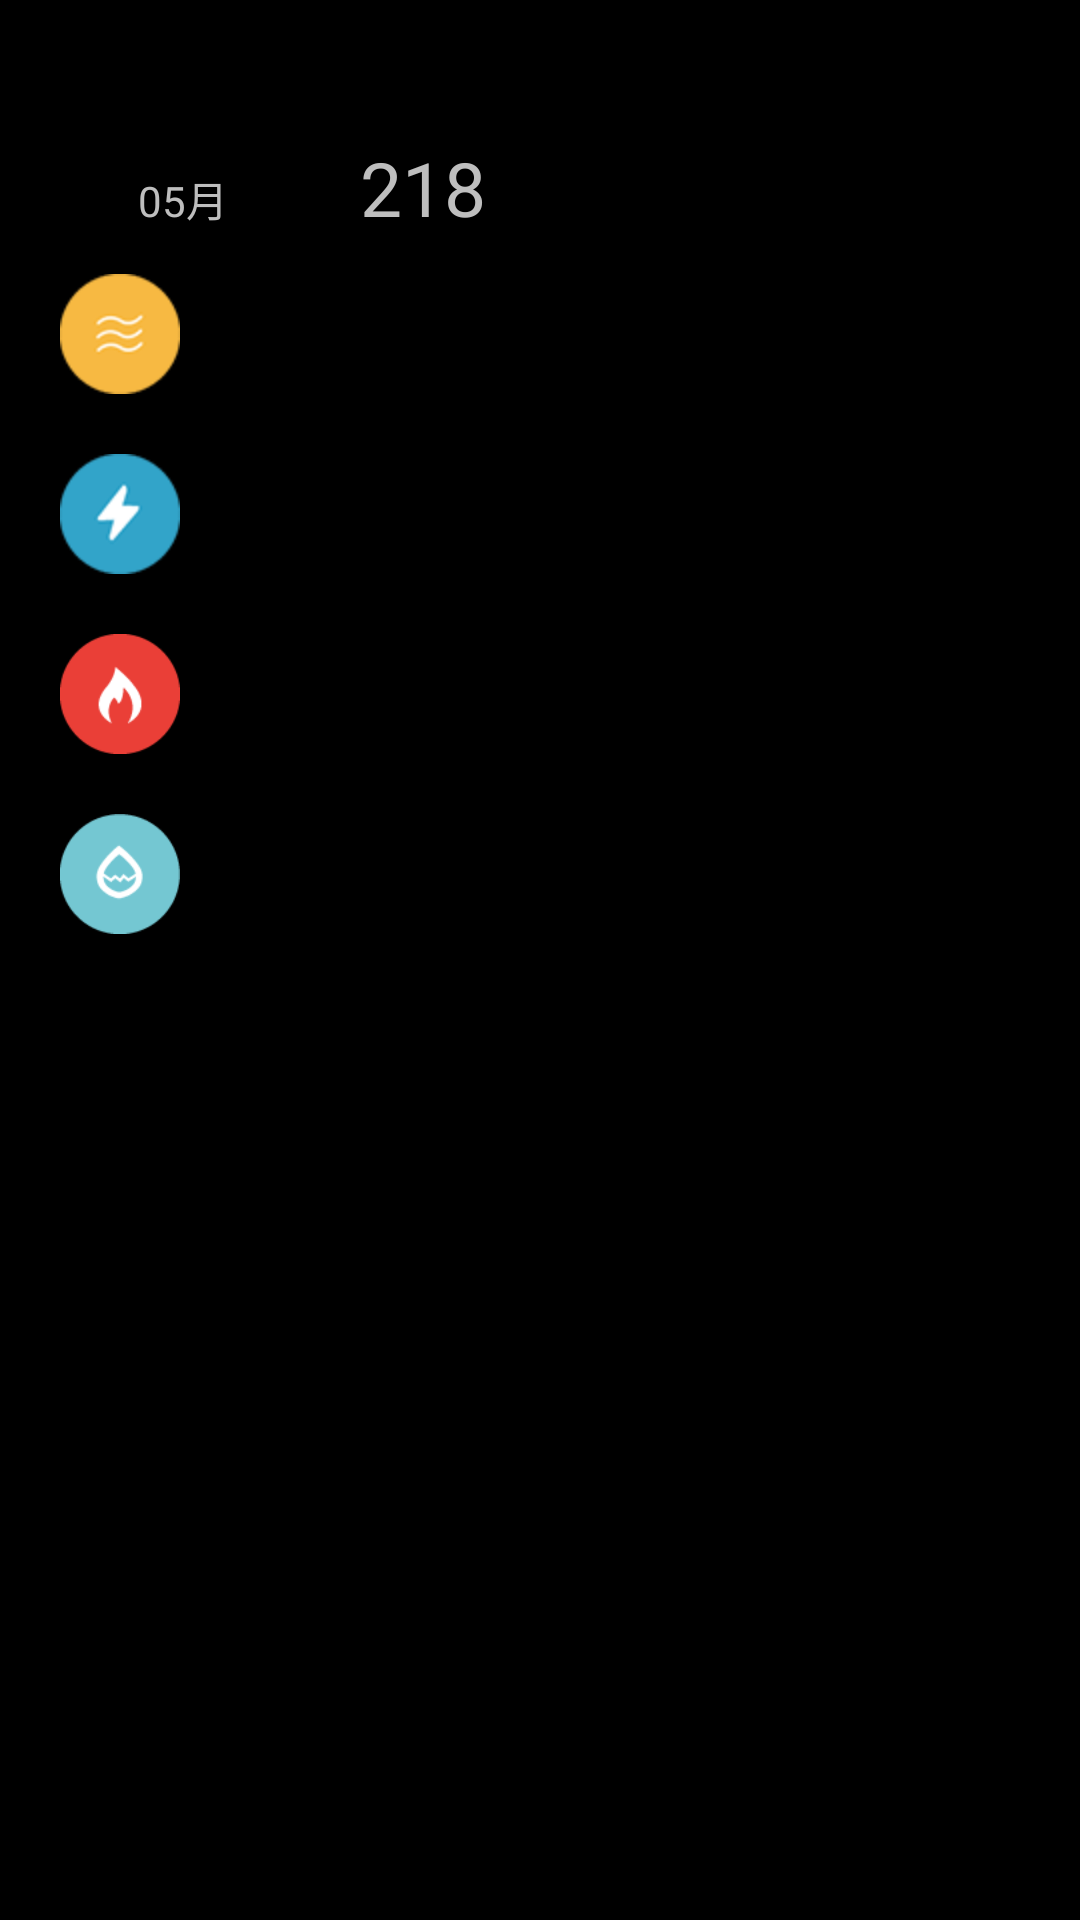

Screen size 1080 × 1920. Icon name, then its center in pixels as (x,y):
electricity: (120,514)
gas: (120,334)
heat: (120,694)
water: (120,874)
